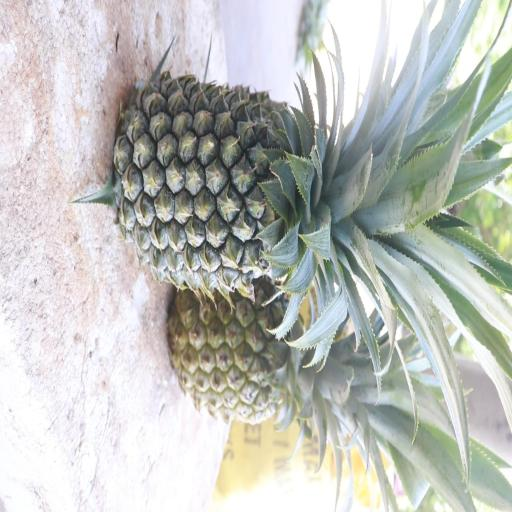------------------------------: (164, 252, 396, 430)
